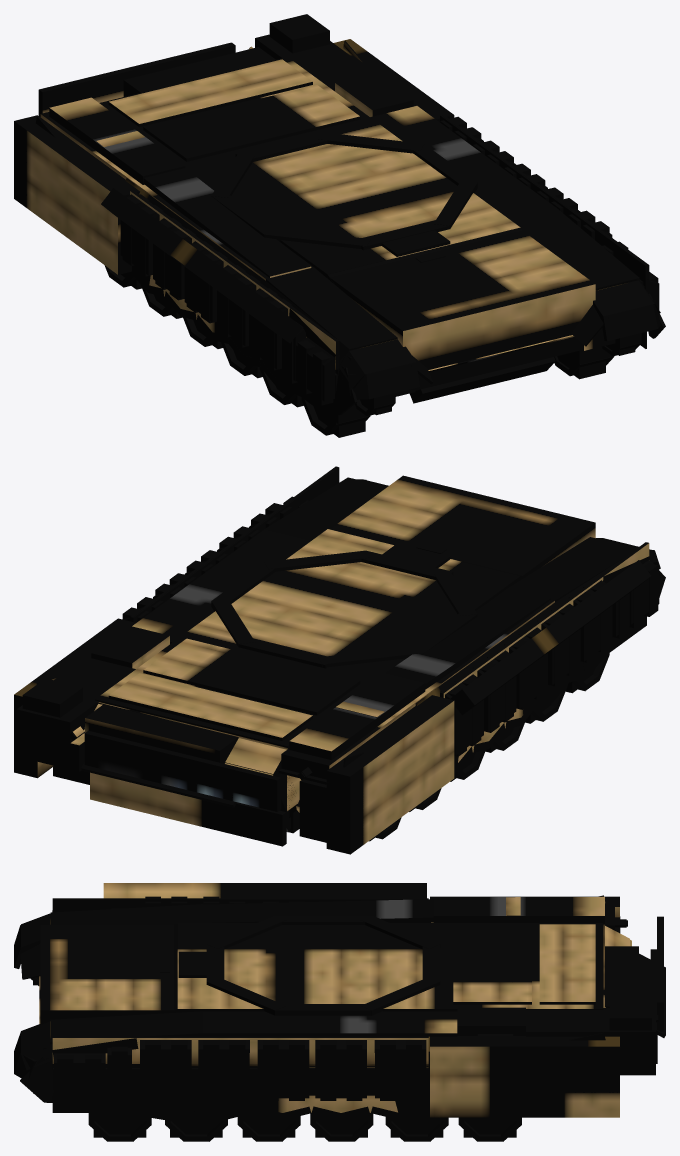
3 views of the same model, one above another, from view 1: azimuth 30°, elevation 25°; view 2: azimuth 150°, elevation 25°; view 3: azimuth 270°, elevation 25° (orthographic). The views are drawn at different scales.
Parts seen in each view (by area): view 1: body, w2, w10, w1; view 2: body, w8; view 3: body, w10, w13, w12, w11, w15, w14.
Boxes of the visible parts, x1=… form: body: x1=14, y1=14, x2=665, y2=423; w2: x1=301, y1=398, x2=370, y2=437; w10: x1=554, y1=346, x2=614, y2=379; w1: x1=355, y1=393, x2=395, y2=416; body: x1=14, y1=466, x2=665, y2=854; w8: x1=299, y1=779, x2=326, y2=842; body: x1=14, y1=883, x2=665, y2=1120; w10: x1=88, y1=1113, x2=151, y2=1141; w13: x1=310, y1=1113, x2=373, y2=1141; w12: x1=237, y1=1113, x2=300, y2=1141; w11: x1=165, y1=1113, x2=227, y2=1141; w15: x1=458, y1=1117, x2=521, y2=1141; w14: x1=385, y1=1114, x2=448, y2=1141.
Bounding box in the file's own units: 5 × 1.88 × 8.7.
